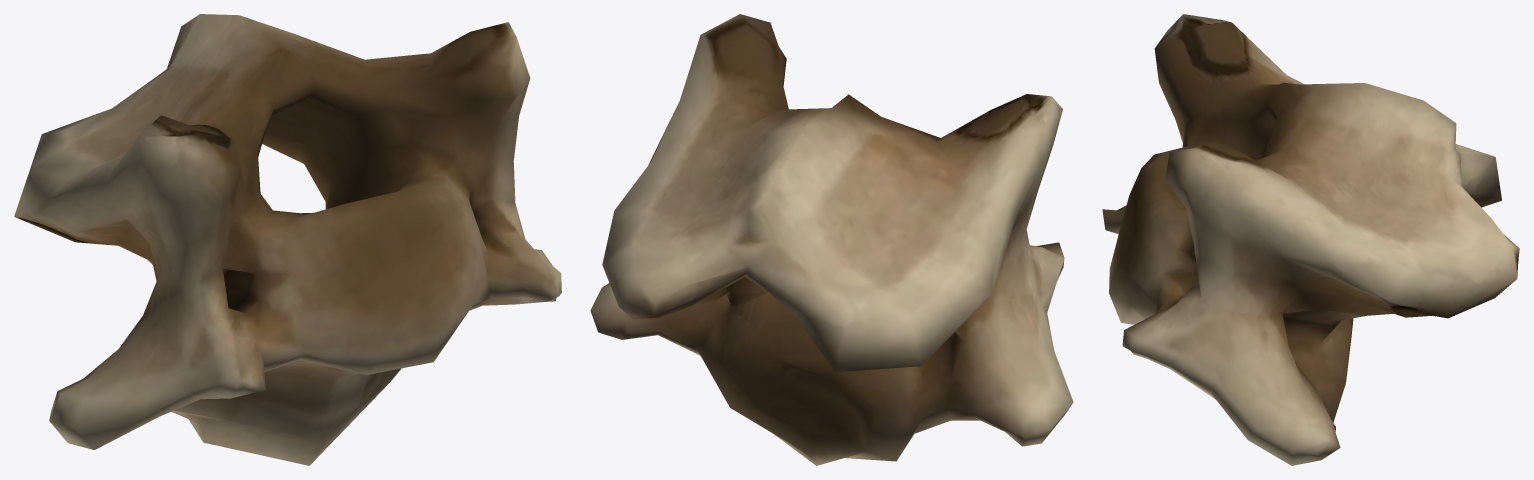
The picture shows the model from 3 angles, left to right: view 1: azimuth 30°, elevation 25°; view 2: azimuth 150°, elevation 25°; view 3: azimuth 270°, elevation 25°; orthographic projection. The views are drawn at different scales.
Visible parts, largest first — view 1: C8:Group16203; view 2: C8:Group16203; view 3: C8:Group16203.
Part boxes in pixels (x1,y1,x2,y2): C8:Group16203: [14, 14, 561, 465]; C8:Group16203: [590, 14, 1073, 465]; C8:Group16203: [1102, 14, 1519, 465].
Size of the model in its own units: 34.55 by 27.77 by 28.77.
Materials: 1 (1 with a texture image).
